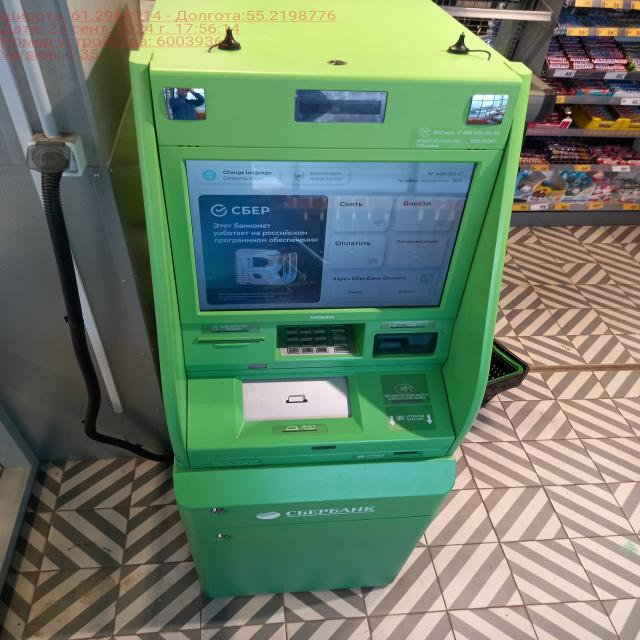bank: (129, 0, 534, 597)
